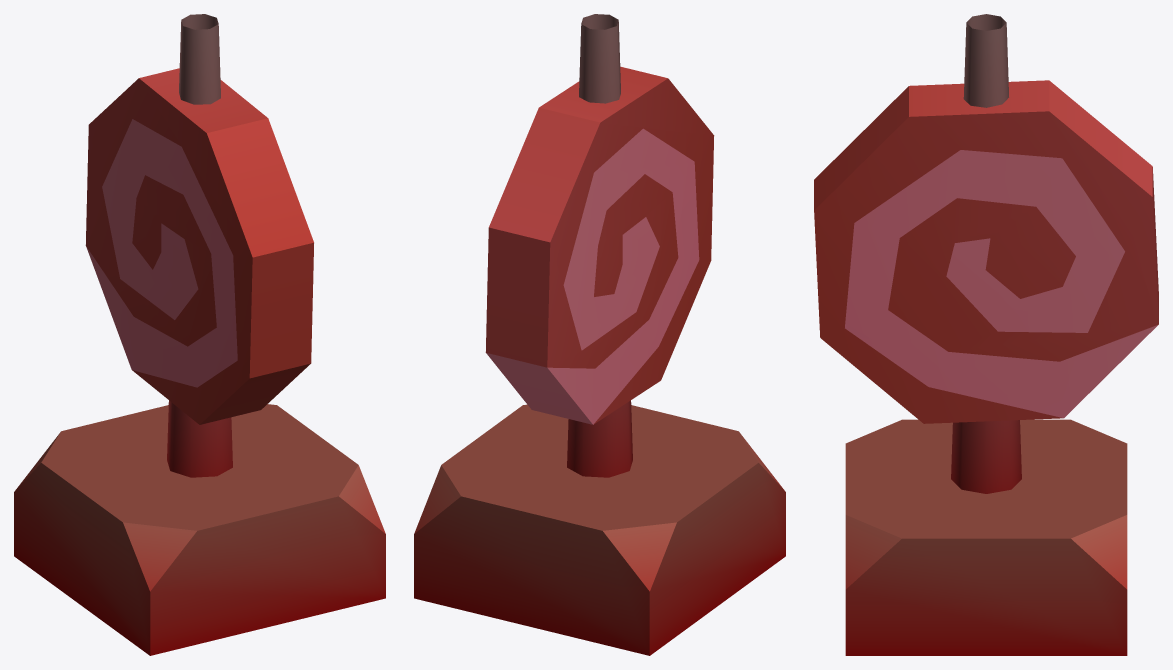
The model's file is candy tower.fbx.
3 views of the same model, side by side, from view 1: azimuth 30°, elevation 25°; view 2: azimuth 150°, elevation 25°; view 3: azimuth 270°, elevation 25° (orthographic). The views are drawn at different scales.
Parts seen in each view (by area): view 1: Cube.058; view 2: Cube.058; view 3: Cube.058.
Boxes of the visible parts, left/top/right/bottom form: Cube.058: left=14, top=14, right=385, bottom=655; Cube.058: left=414, top=14, right=785, bottom=655; Cube.058: left=814, top=14, right=1158, bottom=655.
Size of the model in its own units: 100 by 225 by 123.
